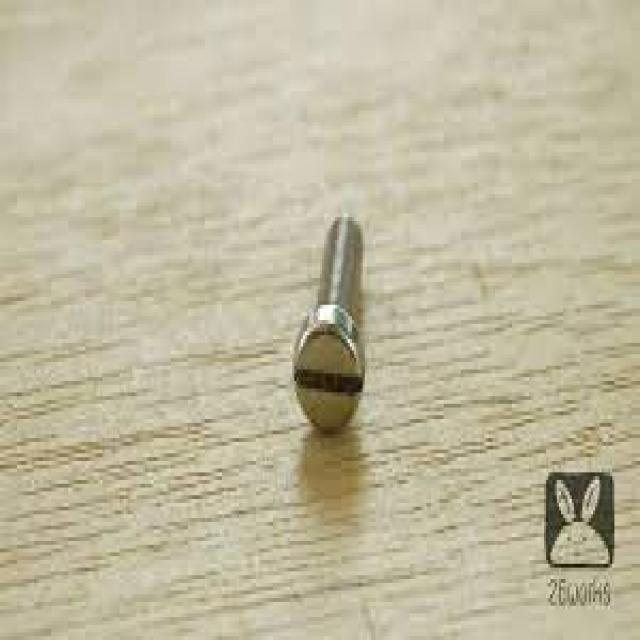Screw: (292, 213, 365, 438)
